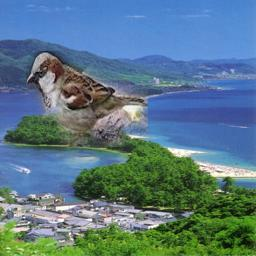Sparrow: (26, 51, 148, 147)
